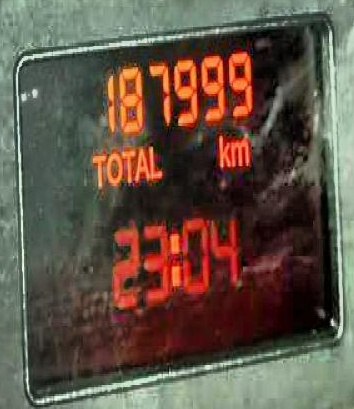0: (180, 211, 206, 298)
1: (105, 69, 115, 136)
2: (112, 227, 138, 311)
3: (141, 218, 169, 302)
4: (209, 214, 240, 285)
7: (146, 58, 171, 129)
8: (116, 63, 145, 134)
9: (199, 49, 225, 120), (173, 53, 197, 127), (227, 47, 250, 116)
X: (105, 147, 121, 185), (90, 149, 105, 189), (230, 136, 249, 167), (134, 143, 148, 185), (148, 142, 163, 180), (120, 143, 134, 183), (170, 227, 179, 287), (218, 131, 229, 169)
